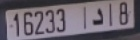1: (11, 12, 21, 37)
2: (34, 10, 44, 35)
3: (45, 9, 55, 33), (56, 8, 65, 32)
6: (23, 10, 33, 36)
8: (118, 1, 129, 26)
d: (90, 6, 106, 26)
